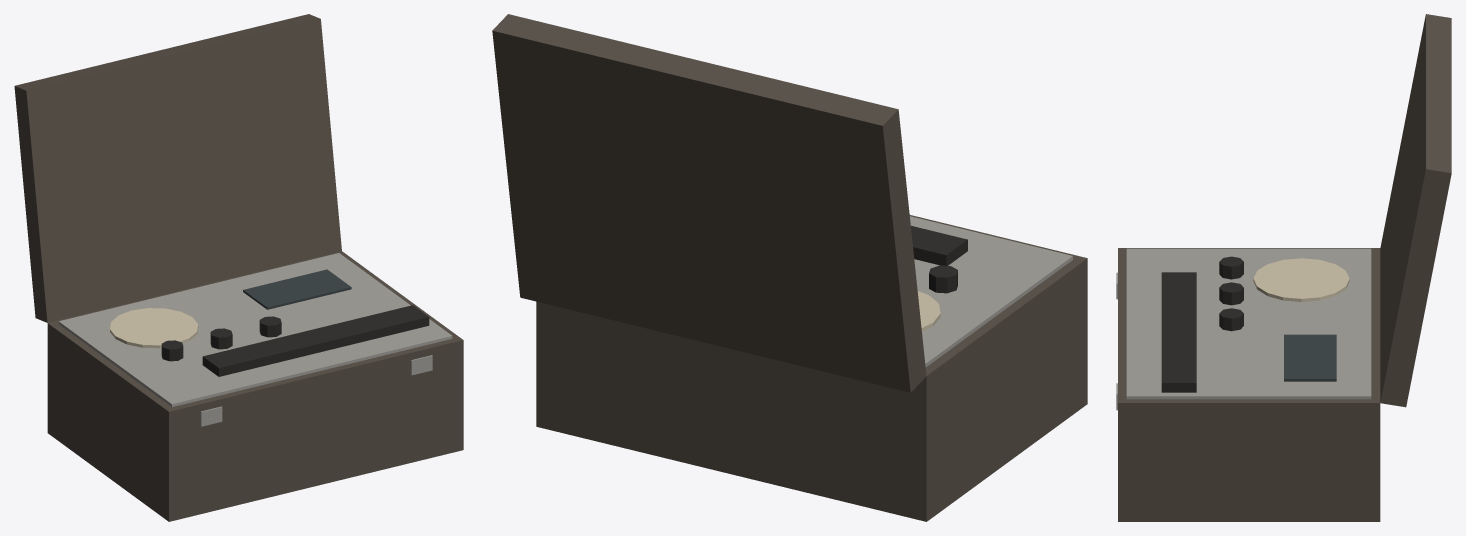
Rendered from tube-tester.glb.
The picture shows the model from 3 angles, left to right: view 1: azimuth 30°, elevation 25°; view 2: azimuth 150°, elevation 25°; view 3: azimuth 270°, elevation 25°; orthographic projection. The views are drawn at different scales.
Parts seen in each view (by area): view 1: fabric, brushed, plastic-dark, paper, glass; view 2: fabric, brushed, plastic-dark; view 3: fabric, brushed, plastic-dark, paper, glass.
Part boxes in pixels (box(x1,y1,x2,y2)): fabric: box(14, 14, 463, 521); brushed: box(58, 253, 452, 426); plastic-dark: box(161, 305, 429, 376); paper: box(110, 308, 198, 348); glass: box(243, 269, 351, 309); fabric: box(492, 14, 1087, 521); brushed: box(910, 216, 1072, 367); plastic-dark: box(911, 225, 967, 293); fabric: box(1118, 14, 1451, 521); brushed: box(1116, 248, 1371, 410); plastic-dark: box(1161, 256, 1243, 392); paper: box(1253, 258, 1349, 301); glass: box(1284, 334, 1336, 381).
Size of the model in its own units: 0.42 by 0.4453 by 0.3838.
